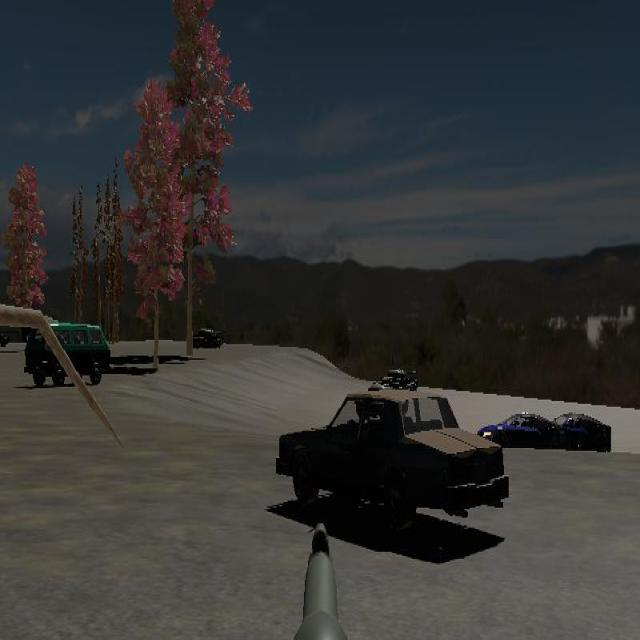Tank: (369, 366, 420, 396), (370, 366, 419, 395)
car: (275, 387, 512, 534), (23, 321, 111, 387), (476, 411, 563, 452), (556, 412, 612, 455)
